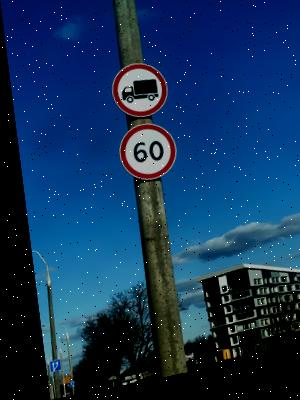Speed Limit -60-: (110, 122, 174, 190)
